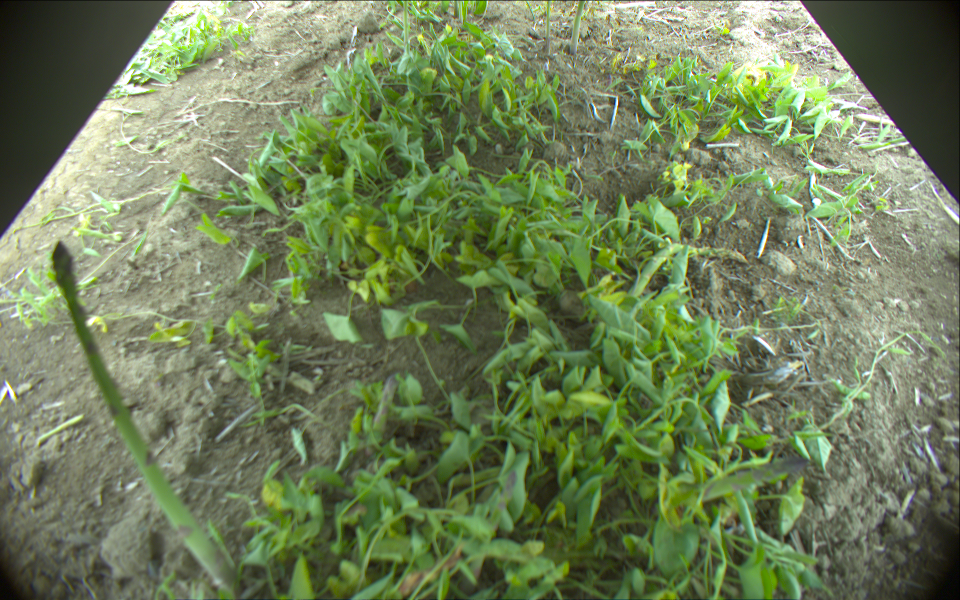aspa: (52, 242, 241, 600), (650, 454, 810, 518), (456, 477, 513, 600), (355, 376, 401, 486), (569, 1, 584, 53), (401, 1, 410, 45), (544, 1, 552, 42), (525, 1, 538, 24)
